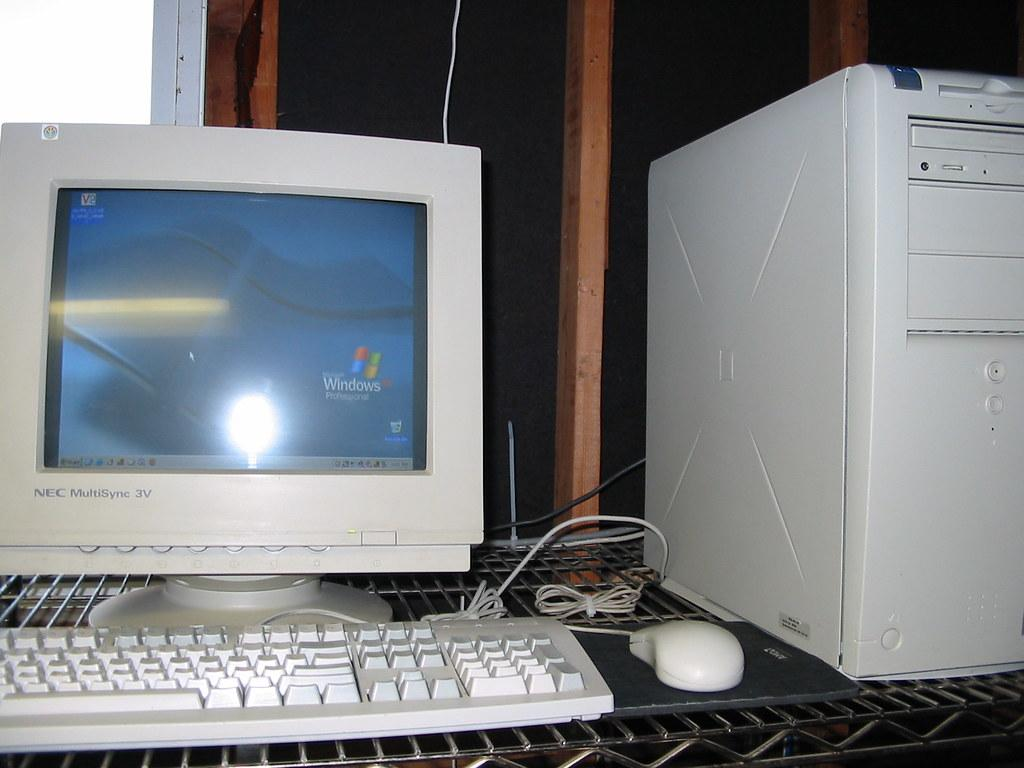computer: (2, 120, 486, 627), (643, 62, 1023, 682)
